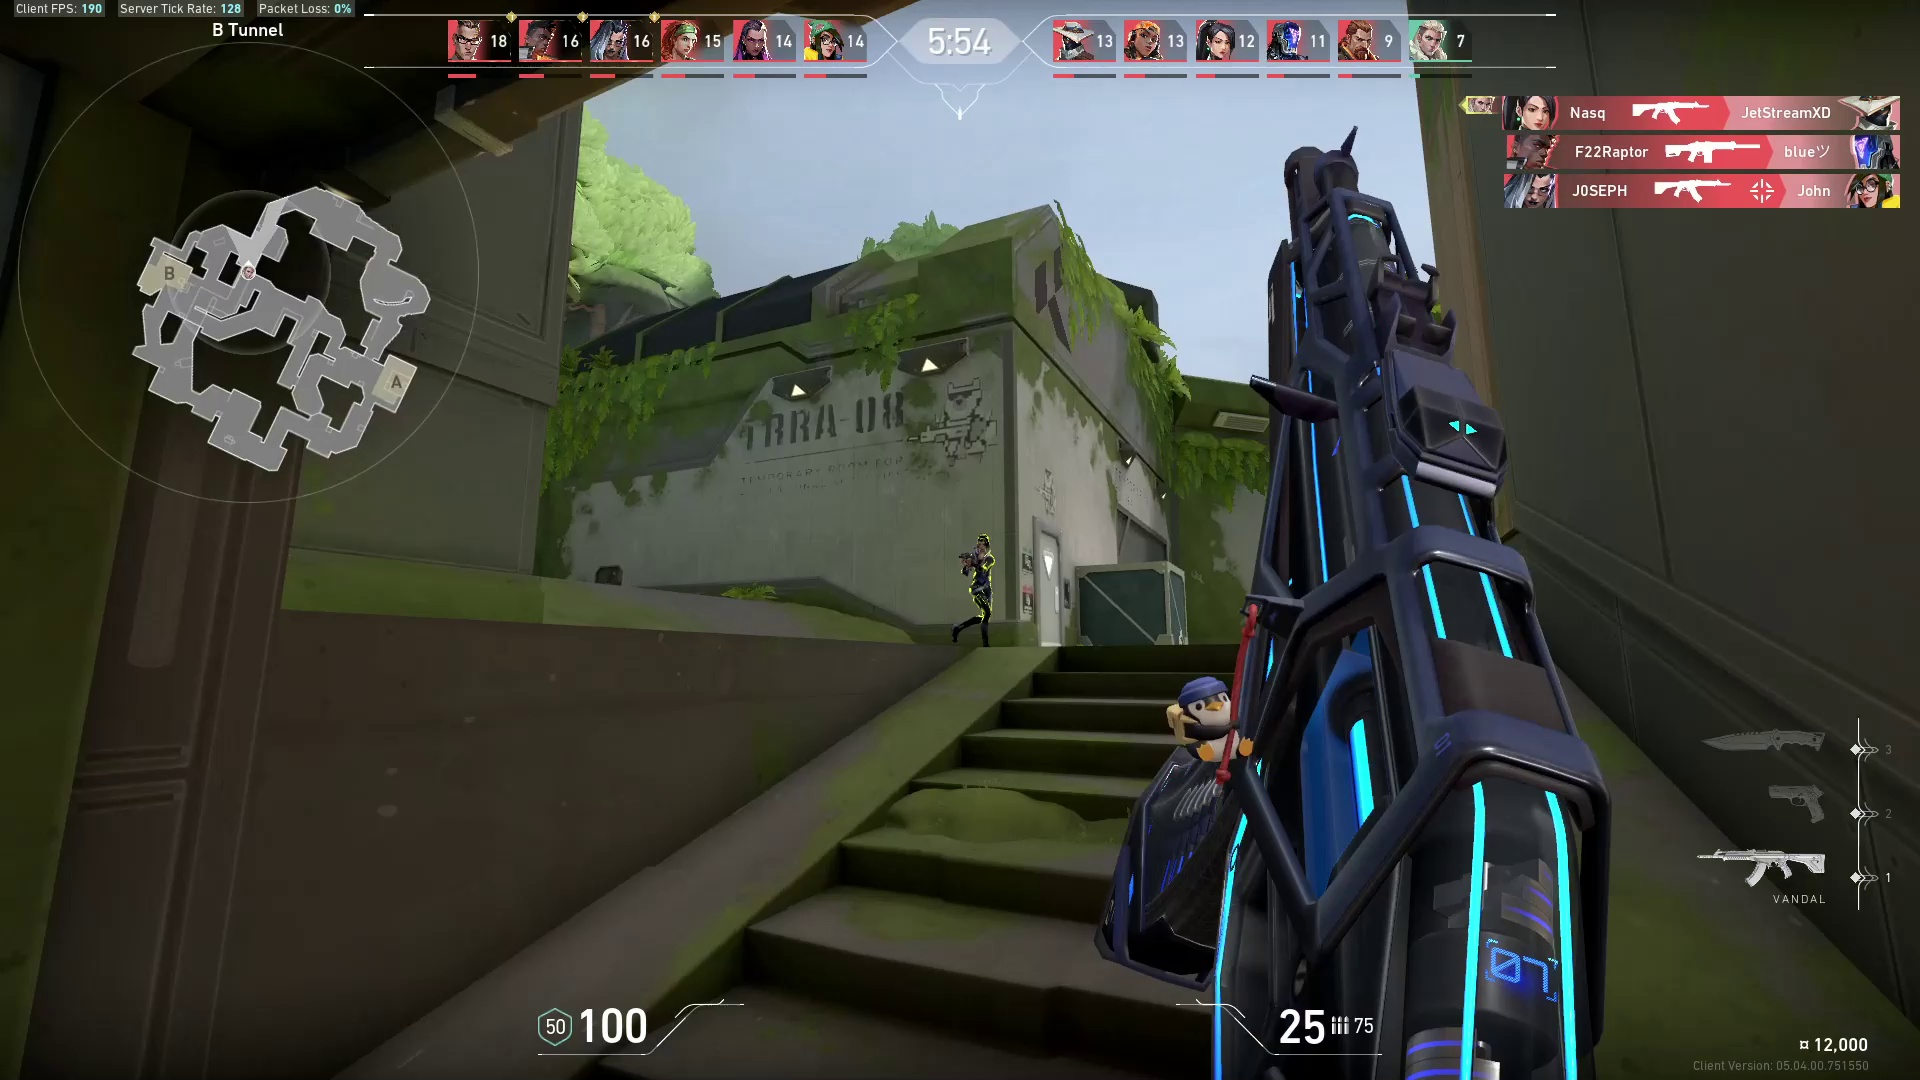enemy_body: (949, 553, 1000, 649)
enemy_head: (973, 531, 997, 556)
